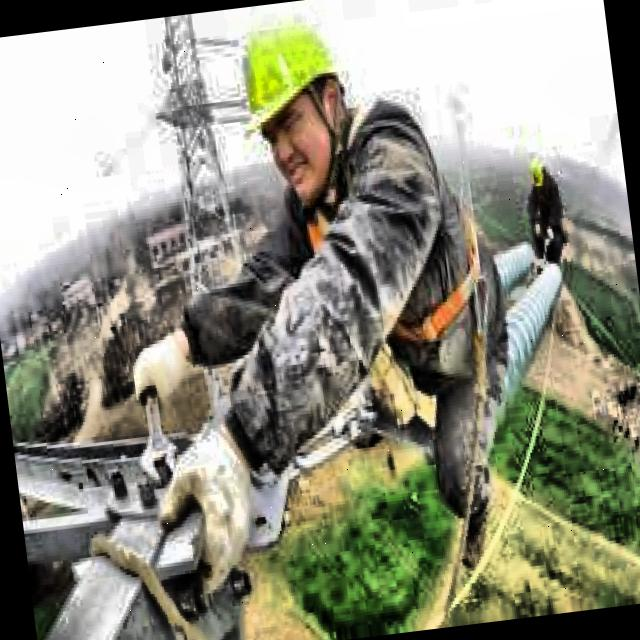helmet: (226, 0, 367, 211), (524, 150, 554, 197)
